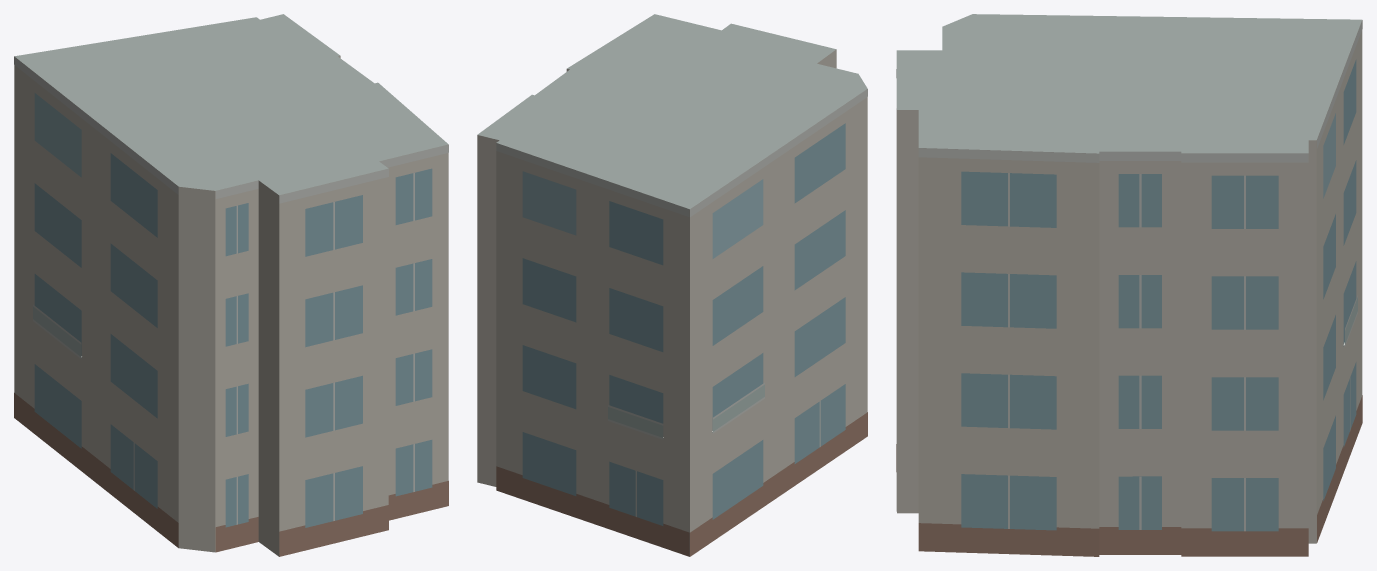
The model's file is survey-upis-32783377.glb.
The picture shows the model from 3 angles, left to right: view 1: azimuth 30°, elevation 25°; view 2: azimuth 150°, elevation 25°; view 3: azimuth 270°, elevation 25°; orthographic projection. The views are drawn at different scales.
Visible parts, largest first — view 1: survey-upis-32783377.tmp; view 2: survey-upis-32783377.tmp; view 3: survey-upis-32783377.tmp.
Boxes of the visible parts, x1,y1,x2,y2 form: survey-upis-32783377.tmp: [14, 14, 448, 556]; survey-upis-32783377.tmp: [477, 14, 867, 556]; survey-upis-32783377.tmp: [896, 14, 1362, 556].
Size of the model in its own units: 7.8 by 10.5 by 11.
